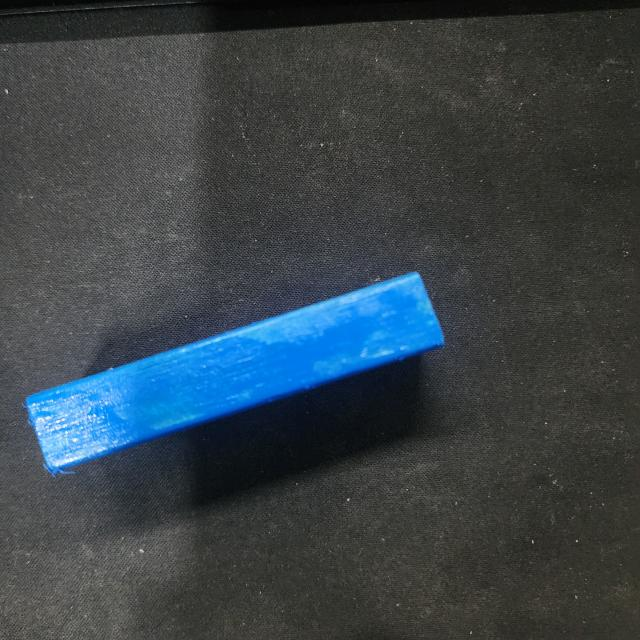blue: (25, 266, 448, 475)
